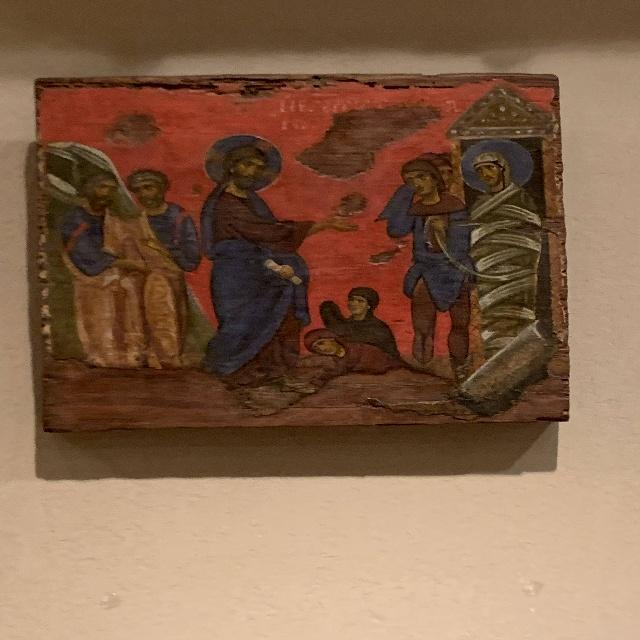christ_miracle: (199, 129, 354, 396)
lazarus_tomb: (435, 83, 571, 397)
raising_of_lazarus: (34, 83, 568, 413)
